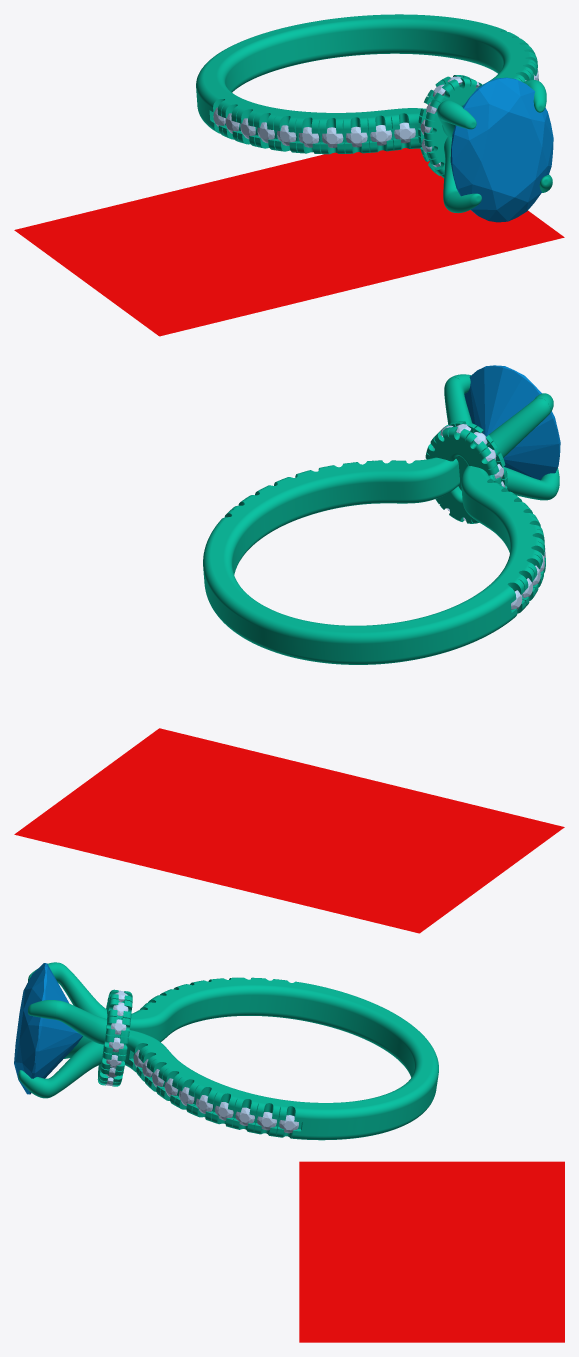
3 renders of one model, top to bottom at view 1: azimuth 30°, elevation 25°; view 2: azimuth 150°, elevation 25°; view 3: azimuth 270°, elevation 25°, orthographic. The views are drawn at different scales.
Parts seen in each view (by area): view 1: RING. JTC.SRO1(base).3dm, Diamond_Oval; view 2: RING. JTC.SRO1(base).3dm, Diamond_Oval; view 3: RING. JTC.SRO1(base).3dm, Diamond_Oval.
Boxes of the visible parts, x1,y1,x2,y2 form: RING. JTC.SRO1(base).3dm: (14,14,564,336); Diamond_Oval: (450,77,553,222); RING. JTC.SRO1(base).3dm: (14,374,564,933); Diamond_Oval: (464,365,560,480); RING. JTC.SRO1(base).3dm: (18,962,564,1342); Diamond_Oval: (14,963,82,1094).
Size of what is drawn, in the model's own units: 3.14 by 2.3 by 4.04.
